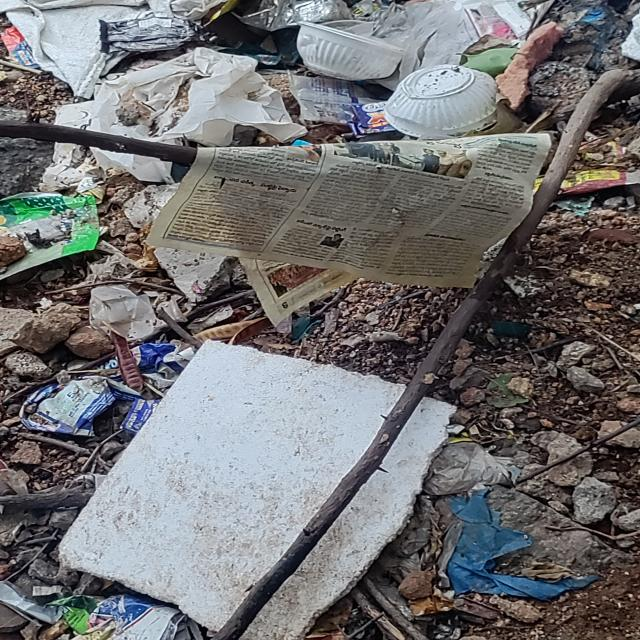paper: (185, 118, 557, 293), (8, 6, 193, 89)
plastic: (24, 370, 152, 449), (384, 68, 511, 140), (285, 16, 402, 78)
